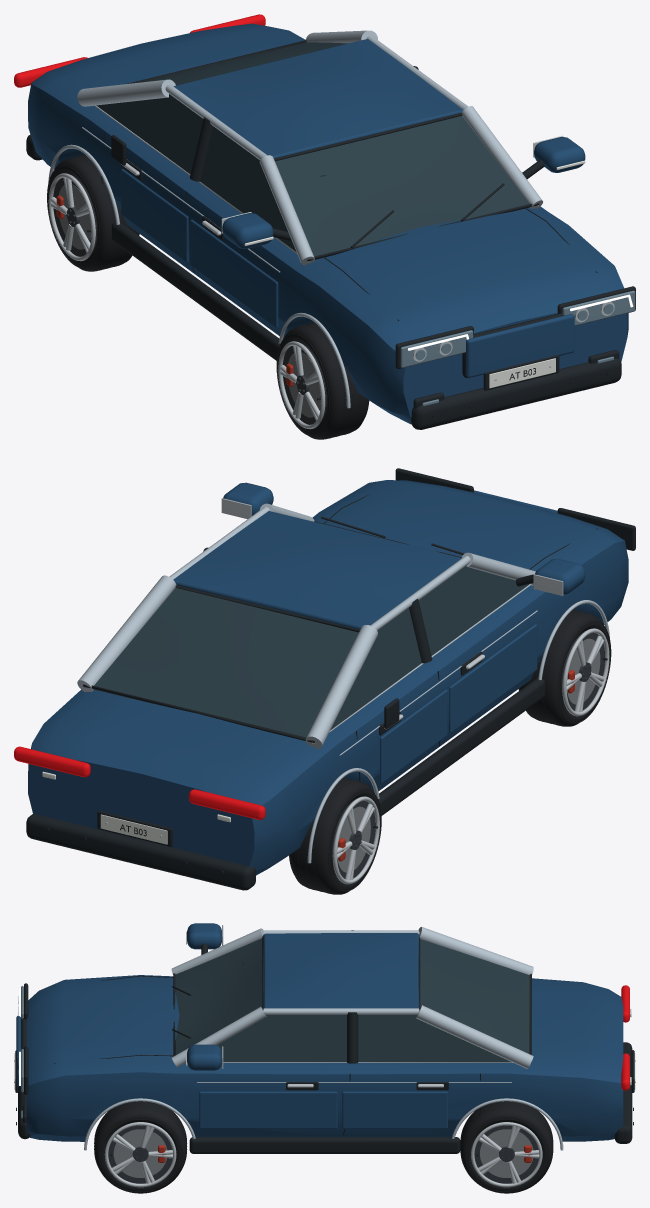
The model's file is electric-car.glb.
The picture shows the model from 3 angles, top to bottom: view 1: azimuth 30°, elevation 25°; view 2: azimuth 150°, elevation 25°; view 3: azimuth 270°, elevation 25°; orthographic projection. The views are drawn at different scales.
Parts seen in each view (by area): view 1: EV continuous sculpted body.001, EV curved laminated windscreen.001, EV gently crowned roof.001, EV fitted side glazing.003, EV front lower valance.001, EV pressed door skin.005, EV closed aero nose.001, EV rocker sill.002, EV pneumatic tyre.005, EV pneumatic tyre.004, EV pressed door skin.007, EV curved rear screen.001 (+19 smaller); view 2: EV continuous sculpted body.001, EV curved rear screen.001, EV gently crowned roof.001, EV fitted side glazing.003, EV rear bumper.001, EV pressed door skin.005, EV rocker sill.002, EV pneumatic tyre.004, EV pneumatic tyre.005, EV pressed door skin.007, EV structural rear pillar.002, EV structural rear pillar.003 (+18 smaller); view 3: EV continuous sculpted body.001, EV gently crowned roof.001, EV fitted side glazing.002, EV curved rear screen.001, EV curved laminated windscreen.001, EV pressed door skin.004, EV rocker sill.003, EV pressed door skin.006, EV pneumatic tyre.006, EV pneumatic tyre.007, EV structural rear pillar.003, EV ventilated brake disc.006 (+17 smaller).
Boxes of the visible parts, x1,y1,x2,y2 form: EV continuous sculpted body.001: (28,23,628,424); EV curved laminated windscreen.001: (275,116,529,256); EV gently crowned roof.001: (173,39,462,158); EV fitted side glazing.003: (96,94,296,251); EV front lower valance.001: (411,358,621,429); EV pressed door skin.005: (190,219,278,328); EV closed aero nose.001: (466,314,574,377); EV rocker sill.002: (111,222,279,360); EV pneumatic tyre.005: (277,322,369,439); EV pneumatic tyre.004: (47,154,139,271); EV pressed door skin.007: (121,169,188,262); EV curved rear screen.001: (143,42,348,85); EV continuous sculpted body.001: (28,480,628,875); EV curved rear screen.001: (94,588,358,737); EV gently crowned roof.001: (173,511,461,629); EV fitted side glazing.003: (330,565,528,729); EV rear bumper.001: (26,814,255,890); EV pressed door skin.005: (449,624,537,732); EV rocker sill.002: (378,678,545,815); EV pneumatic tyre.004: (289,777,380,894); EV pneumatic tyre.005: (518,609,610,726); EV pressed door skin.007: (379,689,447,783); EV structural rear pillar.002: (305,625,377,748); EV structural rear pillar.003: (77,575,176,692); EV continuous sculpted body.001: (26,975,623,1141); EV gently crowned roof.001: (263,933,418,1008); EV fitted side glazing.002: (217,1015,511,1062); EV curved rear screen.001: (420,939,529,1053); EV curved laminated windscreen.001: (175,938,261,1054); EV pressed door skin.004: (199,1091,337,1128); EV rocker sill.003: (189,1137,460,1153); EV pressed door skin.006: (342,1091,447,1128); EV pneumatic tyre.006: (94,1101,186,1193); EV pneumatic tyre.007: (460,1101,553,1193); EV structural rear pillar.003: (416,1005,533,1068); EV ventilated brake disc.006: (113,1129,167,1177).
Size of the model in its own units: 2.56 by 1.55 by 4.96.
